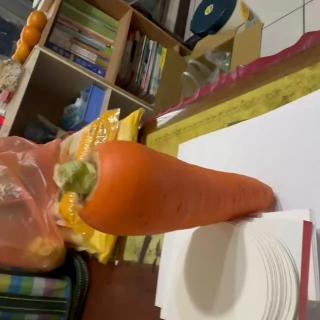carrot: (52, 140, 277, 234)
